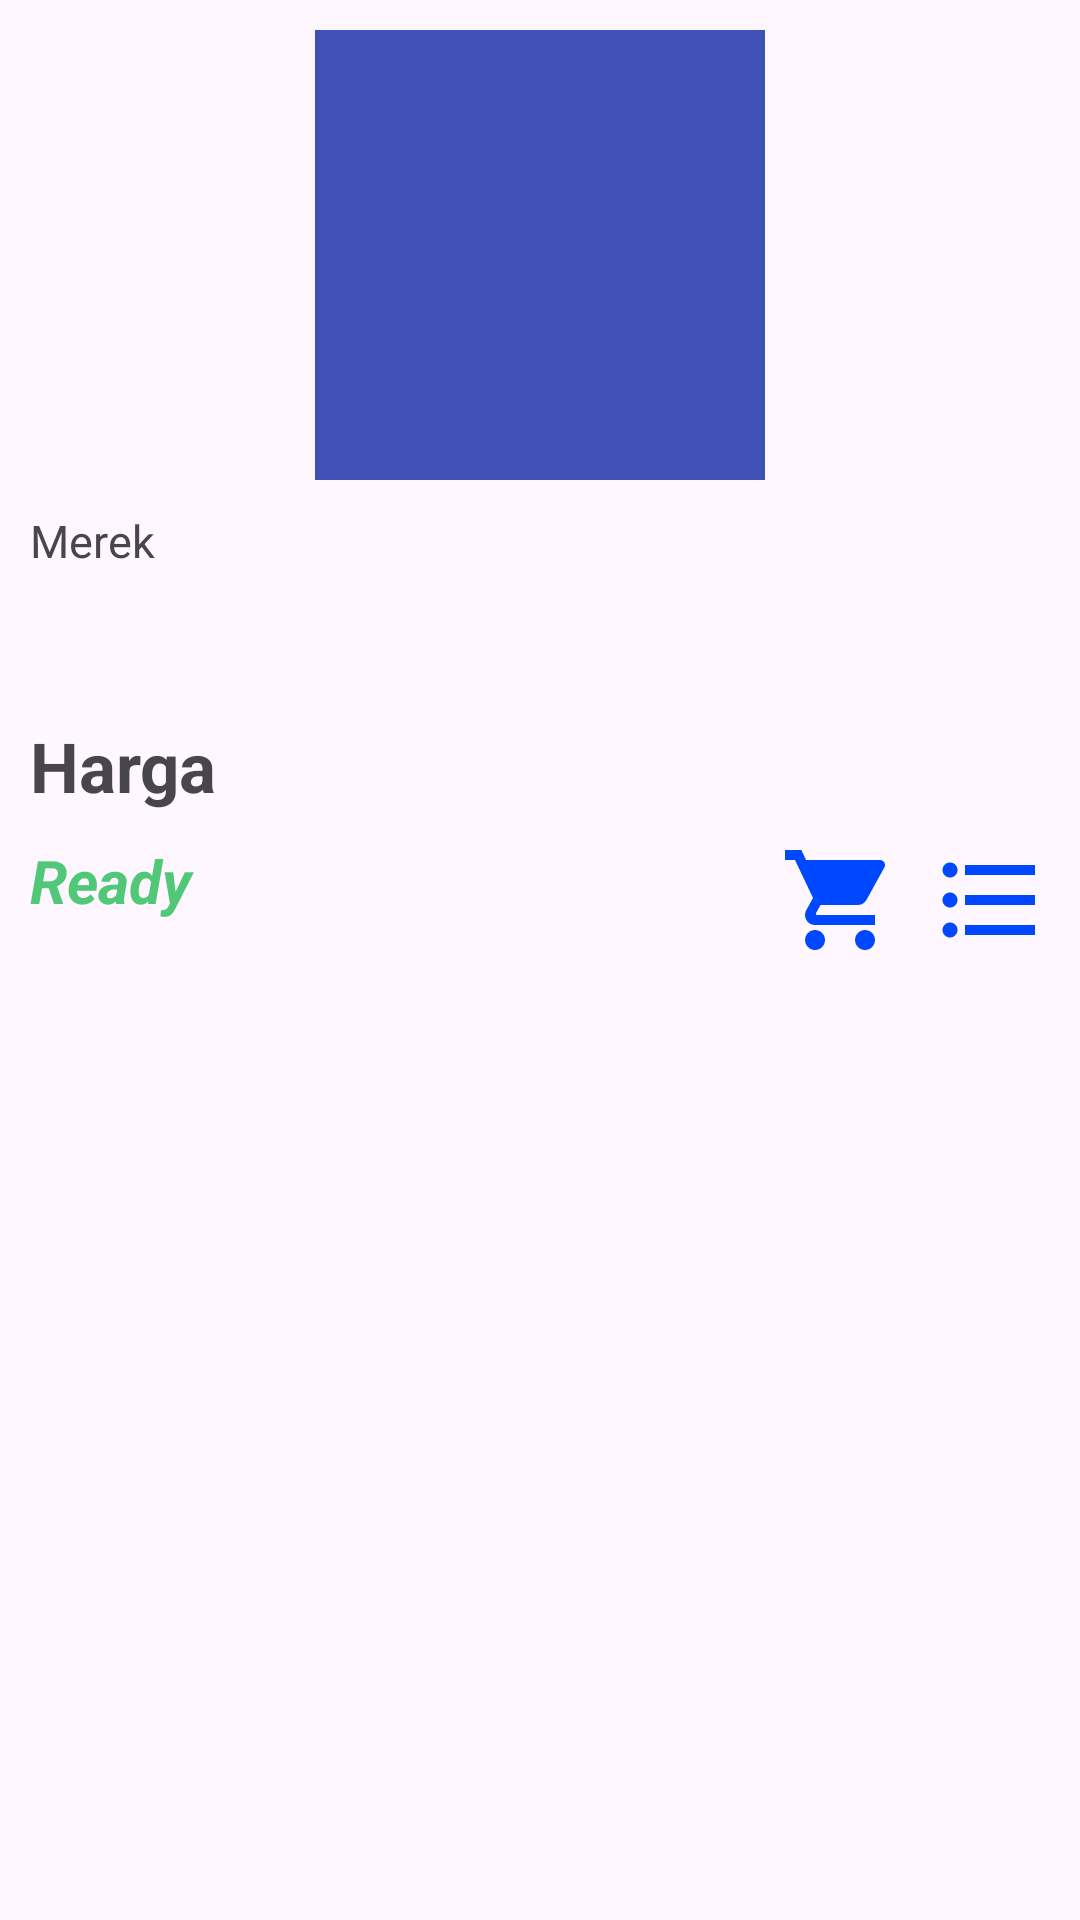

Where to tap for icons on this 1080×1920 app screen, as point (x, y):
format list bulleted: point (988, 900)
shopping cart: point (835, 900)
